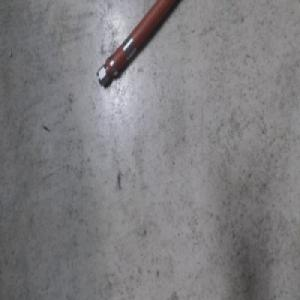Hose: (96, 0, 183, 90)
